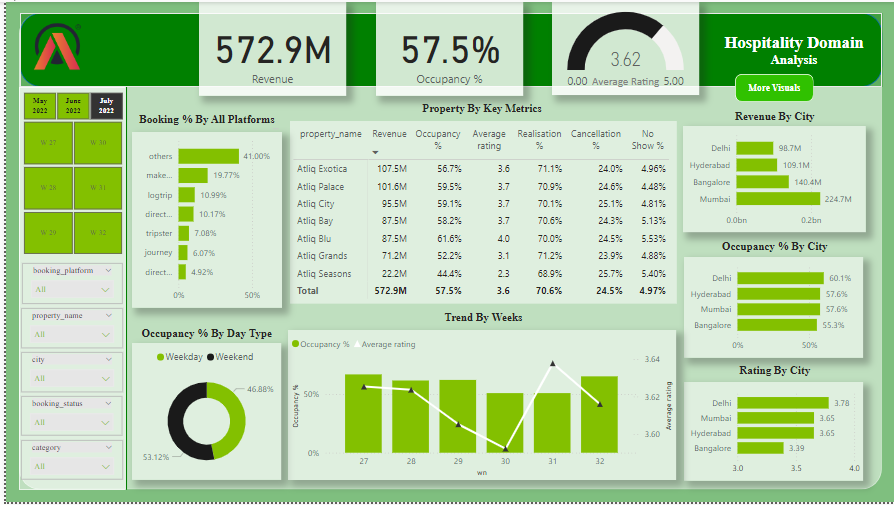

The dashboard page shown, as its layout file describes it:
{"tool":"powerbi","page":{"name":"D1","canvas":[1280,720],"ordinal":1},"visuals":[{"type":"shape","box":[18.8,16.2,1242.5,686.2],"z":0},{"type":"shape","box":[20,16.4,1241.8,106.4],"z":1000},{"type":"image","box":[35,23.3,80,80],"z":2000},{"type":"shape","box":[20,122.5,306.2,580],"z":3000},{"type":"shape","box":[19.3,122.9,153.6,580],"z":4000},{"type":"clusteredBarChart","fields":{"Category":["dim_hotels.city"],"Y":["Key Measures.Average rating"]},"box":[976.7,546.7,258.3,141.7],"z":5000},{"type":"clusteredBarChart","fields":{"Category":["dim_hotels.city"],"Y":["Key Measures.Revenue"]},"box":[975,178.3,263.3,153.3],"z":6000},{"type":"clusteredBarChart","fields":{"Category":["dim_hotels.city"],"Y":["Key Measures.Occupancy %"]},"box":[976.7,366.7,258.3,145],"z":7000},{"type":"textbox","box":[978.3,338.3,258.3,36.7],"z":8000},{"type":"textbox","box":[976.7,151.7,261.7,36.7],"z":9000},{"type":"textbox","box":[978.3,516.7,258.3,40],"z":10000},{"type":"pivotTable","fields":{"Rows":["dim_hotels.property_name"],"Values":["Key Measures.Revenue","Key Measures.Occupancy %","Key Measures.Average rating","Key Measures.Realisation %","Key Measures.Cancellation %","Key Measures.No Show %"]},"box":[408.6,171.4,557.1,262.9],"z":11000},{"type":"donutChart","fields":{"Series":["dim_date.Week_day"],"Y":["Key Measures.Occupancy %"]},"box":[181.7,491.7,215,196.7],"z":12000},{"type":"textbox","box":[405.7,140,558.6,38.6],"z":13000},{"type":"slicer","fields":{"Values":["dim_date.Month year"]},"box":[0,123.2,191.6,50],"z":14000},{"type":"slicer","fields":{"Values":["dim_date.week no"]},"box":[0.7,165.7,191.4,204.3],"z":15000},{"type":"lineClusteredColumnComboChart","fields":{"Category":["dim_date.wn"],"Y2":["Key Measures.Average rating"],"Y":["Key Measures.Occupancy %"]},"box":[405.7,472.9,558.6,215.7],"z":16000},{"type":"textbox","box":[408.6,440,557.1,38.6],"z":17000},{"type":"textbox","box":[181.7,463.3,215,28.3],"z":18000},{"type":"clusteredBarChart","fields":{"Category":["fact_bookings.booking_platform"],"Y":["Key Measures.Booking % By Platform"]},"box":[181.4,187.1,215.7,252.9],"z":19000},{"type":"slicer","fields":{"Values":["fact_bookings.booking_platform"]},"box":[22.9,375.7,145,58.6],"z":20000},{"type":"textbox","box":[181.7,159.2,215.8,27.5],"z":21000},{"type":"slicer","fields":{"Values":["dim_hotels.property_name"]},"box":[22.1,440,147.1,57.9],"z":22000},{"type":"slicer","fields":{"Values":["dim_hotels.city"]},"box":[22.1,504.3,147.1,57.9],"z":23000},{"type":"slicer","fields":{"Values":["fact_bookings.booking_status"]},"box":[22.1,567.9,146.4,57.1],"z":24000},{"type":"slicer","fields":{"Values":["dim_hotels.category"]},"box":[22.1,630.7,147.1,57.1],"z":25000},{"type":"card","fields":{"Values":["Key Measures.Revenue"]},"box":[278.3,0,211.7,135],"z":26000},{"type":"card","fields":{"Values":["Key Measures.Occupancy %"]},"box":[533.3,0,211.7,135],"z":27000},{"type":"gauge","fields":{"Y":["Key Measures.Average rating"]},"box":[786.2,0,211.7,133.9],"z":28000},{"type":"textbox","box":[1018.6,40,232.9,71.4],"z":29000},{"type":"actionButton","box":[95.7,0,5.1,39.3],"z":31000},{"type":"shape","box":[1050,103.3,113.3,40],"z":35000},{"type":"textbox","box":[786.7,98.9,212.2,36.7],"z":36000}]}

Visuals, with their boxes in screenshot pixels (x1, y1, x2, y2), scaled from the page's 1280x720 canvas onto the 894x505 screenshot:
shape: 13:11:881:493
shape: 14:12:881:86
image: 24:16:80:72
shape: 14:86:228:493
shape: 13:86:121:493
clusteredBarChart - dim_hotels.city x Key Measures.Average rating: 682:383:863:483
clusteredBarChart - dim_hotels.city x Key Measures.Revenue: 681:125:865:233
clusteredBarChart - dim_hotels.city x Key Measures.Occupancy %: 682:257:863:359
textbox: 683:237:864:263
textbox: 682:106:865:132
textbox: 683:362:864:390
pivotTable - dim_hotels.property_name x Key Measures.Revenue: 285:120:674:305
donutChart - dim_date.Week_day x Key Measures.Occupancy %: 127:345:277:483
textbox: 283:98:674:125
slicer - dim_date.Month year: 0:86:134:121
slicer - dim_date.week no: 0:116:134:260
lineClusteredColumnComboChart - dim_date.wn x Key Measures.Average rating: 283:332:674:483
textbox: 285:309:674:336
textbox: 127:325:277:345
clusteredBarChart - fact_bookings.booking_platform x Key Measures.Booking % By Platform: 127:131:277:309
slicer - fact_bookings.booking_platform: 16:264:117:305
textbox: 127:112:278:131
slicer - dim_hotels.property_name: 15:309:118:349
slicer - dim_hotels.city: 15:354:118:394
slicer - fact_bookings.booking_status: 15:398:118:438
slicer - dim_hotels.category: 15:442:118:482
card - Key Measures.Revenue: 194:0:342:95
card - Key Measures.Occupancy %: 372:0:520:95
gauge - Key Measures.Average rating: 549:0:697:94
textbox: 711:28:874:78
actionButton: 67:0:70:28
shape: 733:72:812:101
textbox: 549:69:698:95
